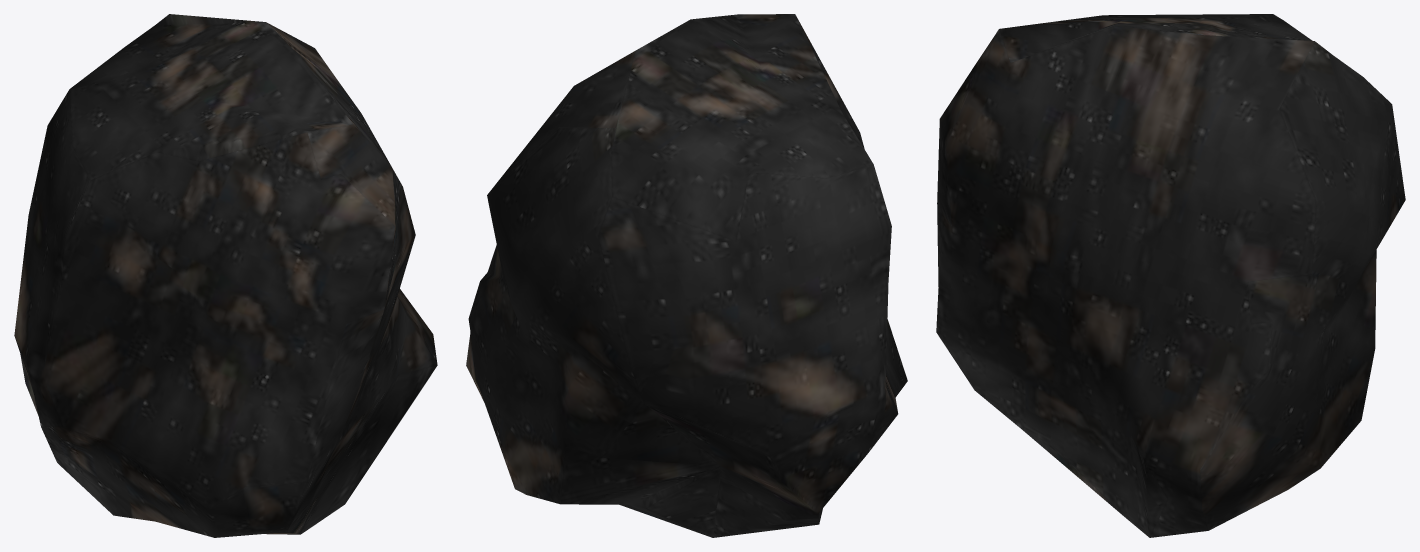
Rendered from graphite_rock.glb.
3 renders of one model, left to right at view 1: azimuth 30°, elevation 25°; view 2: azimuth 150°, elevation 25°; view 3: azimuth 270°, elevation 25°, orthographic.
Parts seen in each view (by area): view 1: GraphiteRock_0; view 2: GraphiteRock_0; view 3: GraphiteRock_0.
Boxes of the visible parts, box(x1,y1,x2,y2) form: GraphiteRock_0: box(14, 14, 437, 537); GraphiteRock_0: box(466, 14, 907, 537); GraphiteRock_0: box(936, 14, 1405, 537).
Size of the model in its own units: 0.2045 by 0.2339 by 0.2039.
Materials: 1 (1 with a texture image).
